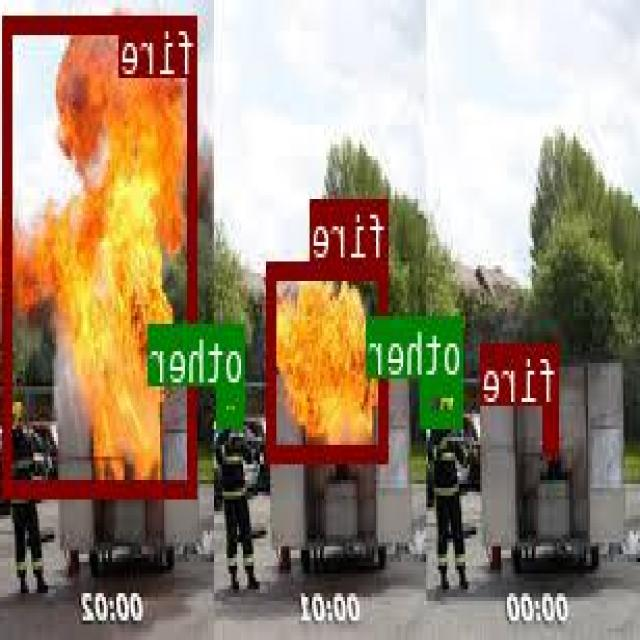fire: (5, 14, 198, 492), (269, 261, 391, 457), (546, 403, 560, 452)
other: (423, 378, 464, 423), (220, 384, 246, 425)
